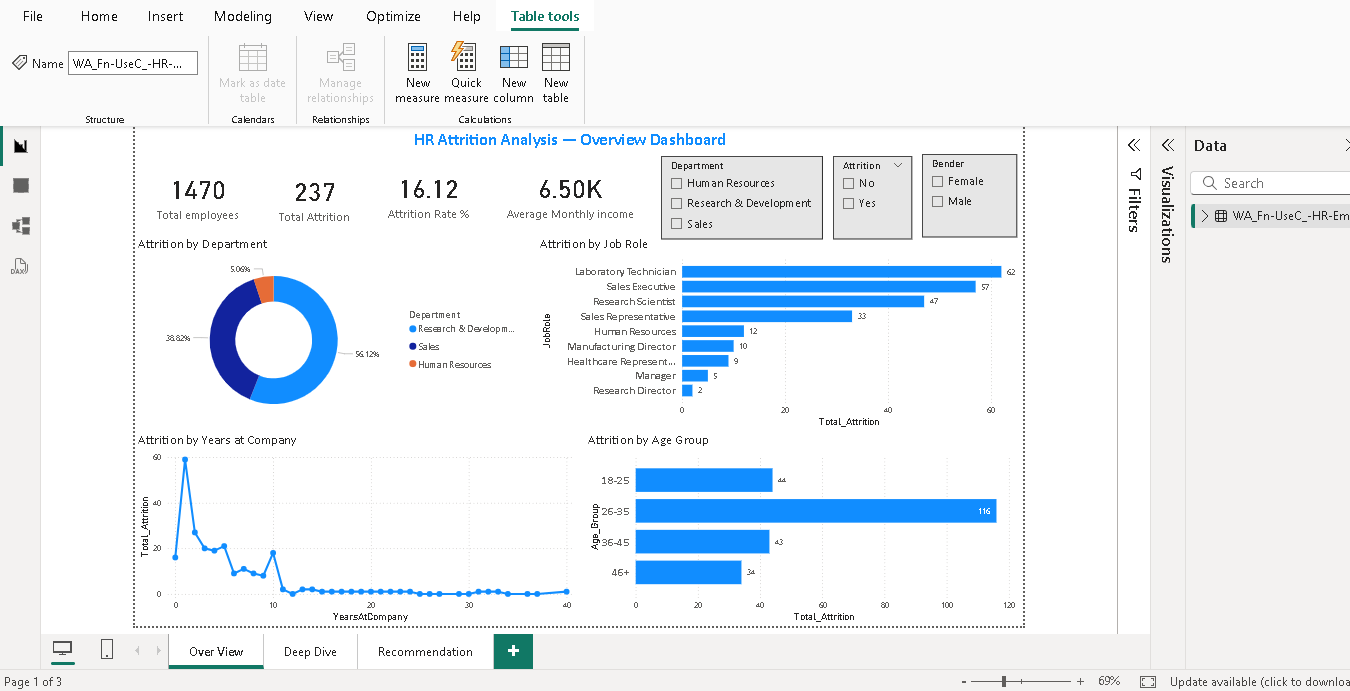

The dashboard page shown, as its layout file describes it:
{"tool":"powerbi","page":{"name":"Over View","canvas":[1280,720],"ordinal":0},"visuals":[{"type":"card","fields":{"Values":["WA_Fn-UseC_-HR-Employee-Attrition.Measure"]},"box":[5.8,57.6,169.9,85],"z":0},{"type":"card","fields":{"Values":["WA_Fn-UseC_-HR-Employee-Attrition.Total_Attrition"]},"box":[175.7,60.5,165.6,85],"z":1000},{"type":"card","fields":{"Values":["WA_Fn-UseC_-HR-Employee-Attrition.Attrition Rate"]},"box":[335.5,56.2,172.8,85],"z":2000},{"type":"card","fields":{"Values":["WA_Fn-UseC_-HR-Employee-Attrition.Average_income"]},"box":[527,56.2,198.7,85],"z":3000},{"type":"donutChart","title":"Attrition by Department","fields":{"Category":["WA_Fn-UseC_-HR-Employee-Attrition.Department"],"Y":["WA_Fn-UseC_-HR-Employee-Attrition.Total_Attrition"]},"box":[0,157,567.4,279.4],"z":4000},{"type":"clusteredBarChart","title":"Attrition by Job Role","fields":{"Category":["WA_Fn-UseC_-HR-Employee-Attrition.JobRole"],"Y":["WA_Fn-UseC_-HR-Employee-Attrition.Total_Attrition"]},"box":[578.9,157,701.3,282.2],"z":5000},{"type":"lineChart","title":"Attrition by Years at Company","fields":{"Category":["WA_Fn-UseC_-HR-Employee-Attrition.YearsAtCompany"],"Y":["WA_Fn-UseC_-HR-Employee-Attrition.Total_Attrition"]},"box":[0,439.2,636.5,280.8],"z":6000},{"type":"barChart","title":"Attrition by Age Group","fields":{"Category":["WA_Fn-UseC_-HR-Employee-Attrition.Age_Group"],"Y":["WA_Fn-UseC_-HR-Employee-Attrition.Total_Attrition"]},"box":[648,439.2,632.2,280.8],"z":7000},{"type":"slicer","fields":{"Values":["WA_Fn-UseC_-HR-Employee-Attrition.Department"]},"box":[757.4,43.2,233.3,119.5],"z":8000},{"type":"slicer","fields":{"Values":["WA_Fn-UseC_-HR-Employee-Attrition.Gender"]},"box":[1133.3,40.3,136.8,119.5],"z":9000},{"type":"slicer","fields":{"Values":["WA_Fn-UseC_-HR-Employee-Attrition.Attrition"]},"box":[1005.1,43.2,113.8,119.5],"z":10000},{"type":"textbox","box":[397.4,0,476.6,40.3],"z":11000}]}

Visuals, with their boxes on the page's 1280x720 design canvas (x1, y1, x2, y2). These are canvas units, not pixel positions in the 1350x691 screenshot, which may show the page scaled, cropped or inside an application window:
card - WA_Fn-UseC_-HR-Employee-Attrition.Measure: pyautogui.locateOnScreen(6, 58, 176, 143)
card - WA_Fn-UseC_-HR-Employee-Attrition.Total_Attrition: pyautogui.locateOnScreen(176, 60, 341, 146)
card - WA_Fn-UseC_-HR-Employee-Attrition.Attrition Rate: pyautogui.locateOnScreen(336, 56, 508, 141)
card - WA_Fn-UseC_-HR-Employee-Attrition.Average_income: pyautogui.locateOnScreen(527, 56, 726, 141)
"Attrition by Department" donutChart: pyautogui.locateOnScreen(0, 157, 567, 436)
"Attrition by Job Role" clusteredBarChart: pyautogui.locateOnScreen(579, 157, 1280, 439)
"Attrition by Years at Company" lineChart: pyautogui.locateOnScreen(0, 439, 636, 720)
"Attrition by Age Group" barChart: pyautogui.locateOnScreen(648, 439, 1280, 720)
slicer - WA_Fn-UseC_-HR-Employee-Attrition.Department: pyautogui.locateOnScreen(757, 43, 991, 163)
slicer - WA_Fn-UseC_-HR-Employee-Attrition.Gender: pyautogui.locateOnScreen(1133, 40, 1270, 160)
slicer - WA_Fn-UseC_-HR-Employee-Attrition.Attrition: pyautogui.locateOnScreen(1005, 43, 1119, 163)
textbox: pyautogui.locateOnScreen(397, 0, 874, 40)
